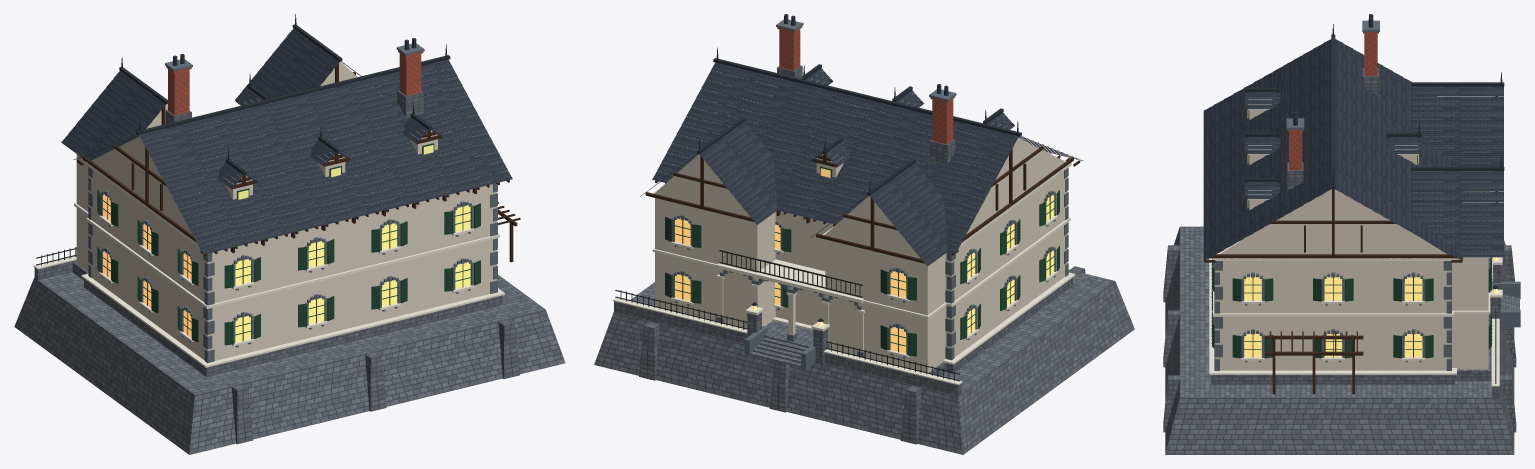
Rendered from fv_tqd_07_tran_quang_dieu_18_brittany_pine_estate.glb.
3 views of the same model, side by side, from view 1: azimuth 30°, elevation 25°; view 2: azimuth 150°, elevation 25°; view 3: azimuth 270°, elevation 25° (orthographic).
Visible parts, largest first — view 1: Normandy_Brittany_Layered_Roof, Foundation_Skirt_Neg3p5m, Villa_Stucco_Walls, Molded_Cornices_And_Sills, PineGreen_Louvered_Shutters, Stone_Quoins_And_Arches, Warm_Night_Windows_20h00_Blend, Roof_Ridges_Caps_And_Finials, Exposed_Timber_Trusses_And_Rafters, Brick_Chimney_Stacks; view 2: Foundation_Skirt_Neg3p5m, Villa_Stucco_Walls, Normandy_Brittany_Layered_Roof, Molded_Cornices_And_Sills, Stone_Quoins_And_Arches, PineGreen_Louvered_Shutters, Exposed_Timber_Trusses_And_Rafters, Warm_Night_Windows_20h00_Blend, Roof_Ridges_Caps_And_Finials, Wrought_Iron_Balustrades_And_Gate, Brick_Chimney_Stacks; view 3: Normandy_Brittany_Layered_Roof, Foundation_Skirt_Neg3p5m, Villa_Stucco_Walls, Molded_Cornices_And_Sills, Stone_Quoins_And_Arches, Exposed_Timber_Trusses_And_Rafters, PineGreen_Louvered_Shutters, Warm_Night_Windows_20h00_Blend, Roof_Ridges_Caps_And_Finials, Brick_Chimney_Stacks.
Boxes of the visible parts, left/top/right/bottom form: Normandy_Brittany_Layered_Roof: left=61, top=28, right=512, bottom=254; Foundation_Skirt_Neg3p5m: left=14, top=90, right=565, bottom=454; Villa_Stucco_Walls: left=76, top=61, right=496, bottom=360; Molded_Cornices_And_Sills: left=33, top=95, right=504, bottom=367; PineGreen_Louvered_Shutters: left=97, top=143, right=480, bottom=345; Stone_Quoins_And_Arches: left=88, top=43, right=497, bottom=363; Warm_Night_Windows_20h00_Blend: left=103, top=145, right=470, bottom=342; Roof_Ridges_Caps_And_Finials: left=73, top=14, right=450, bottom=182; Exposed_Timber_Trusses_And_Rafters: left=76, top=63, right=520, bottom=262; Brick_Chimney_Stacks: left=166, top=50, right=423, bottom=115; Foundation_Skirt_Neg3p5m: left=594, top=65, right=1134, bottom=454; Villa_Stucco_Walls: left=654, top=95, right=1067, bottom=372; Normandy_Brittany_Layered_Roof: left=644, top=14, right=1018, bottom=266; Molded_Cornices_And_Sills: left=613, top=78, right=1075, bottom=385; Stone_Quoins_And_Arches: left=672, top=19, right=1068, bottom=369; PineGreen_Louvered_Shutters: left=665, top=166, right=1059, bottom=356; Exposed_Timber_Trusses_And_Rafters: left=645, top=68, right=1080, bottom=263; Warm_Night_Windows_20h00_Blend: left=675, top=168, right=1054, bottom=353; Roof_Ridges_Caps_And_Finials: left=640, top=47, right=1083, bottom=237; Wrought_Iron_Balustrades_And_Gate: left=615, top=250, right=959, bottom=381; Brick_Chimney_Stacks: left=777, top=26, right=955, bottom=144; Normandy_Brittany_Layered_Roof: left=1203, top=14, right=1503, bottom=260; Foundation_Skirt_Neg3p5m: left=1163, top=68, right=1519, bottom=454; Villa_Stucco_Walls: left=1215, top=110, right=1488, bottom=370; Molded_Cornices_And_Sills: left=1209, top=99, right=1502, bottom=386; Stone_Quoins_And_Arches: left=1212, top=20, right=1520, bottom=370; Exposed_Timber_Trusses_And_Rafters: left=1204, top=92, right=1497, bottom=394; PineGreen_Louvered_Shutters: left=1211, top=110, right=1492, bottom=358; Warm_Night_Windows_20h00_Blend: left=1244, top=109, right=1498, bottom=357; Roof_Ridges_Caps_And_Finials: left=1244, top=24, right=1504, bottom=189; Brick_Chimney_Stacks: left=1287, top=32, right=1378, bottom=170.
Bounding box in the file's own units: 27.32 × 20.5 × 22.12.
12 materials, 3 textured.
